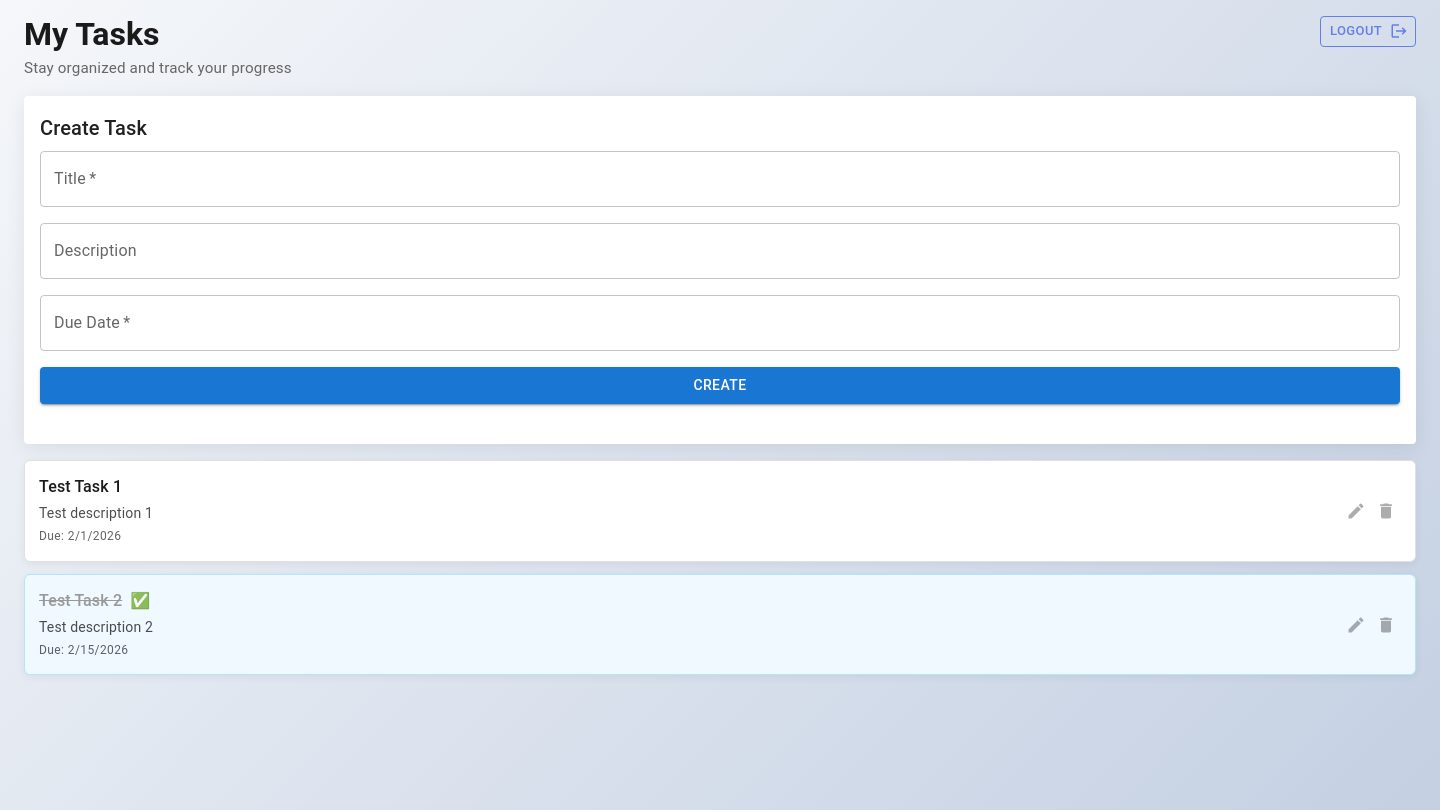
Test: TasksPage › opens edit dialog when edit button is clicked
Expected: the text "Test Task 1" is shown, [39, 475, 122, 499]
What coordinates should you click on to do the following:
click the 3rd button
I would click on:
 (1356, 511)
Its box is [1341, 496, 1371, 526].
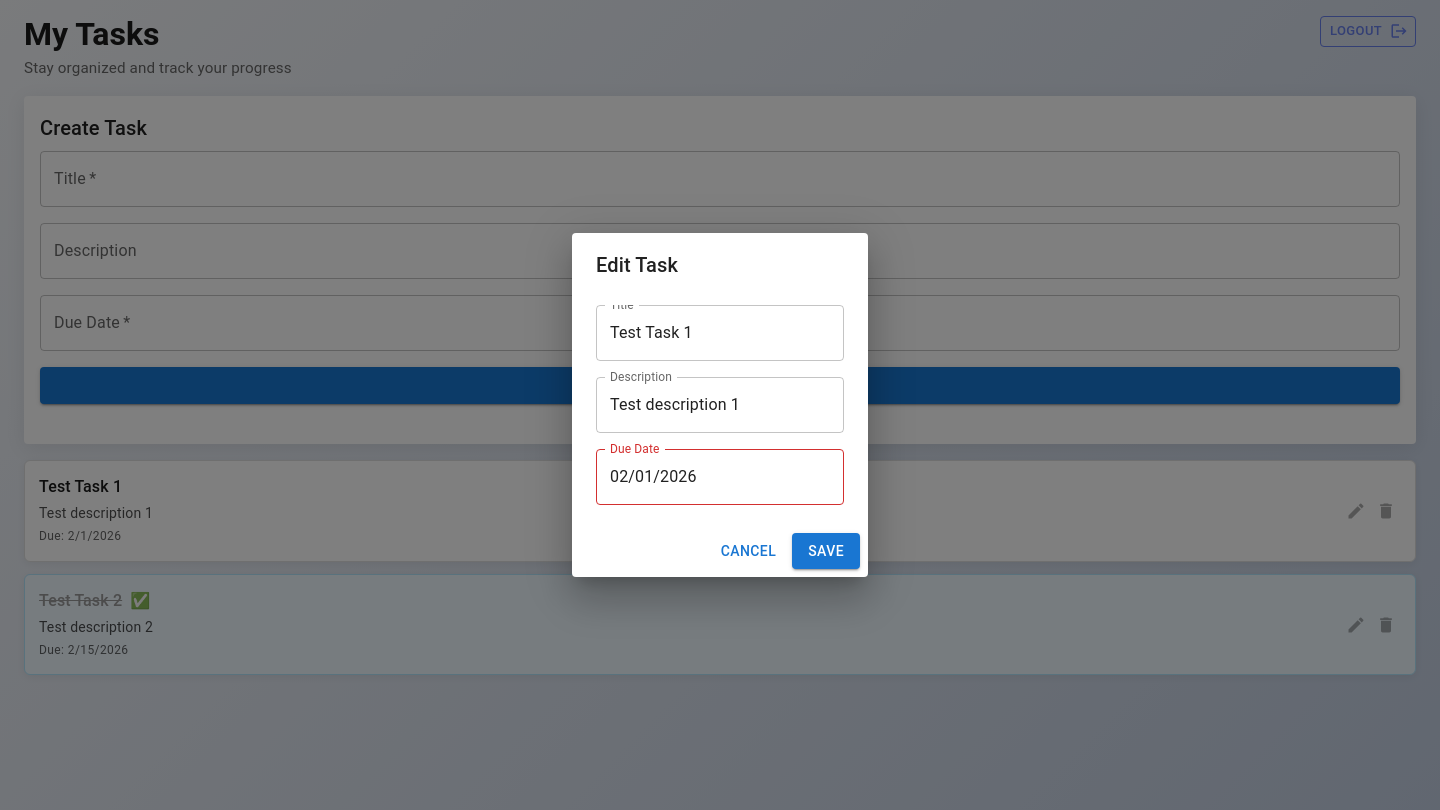
Expected: the field showing "Test Task 1" is shown, [596, 305, 844, 361]
